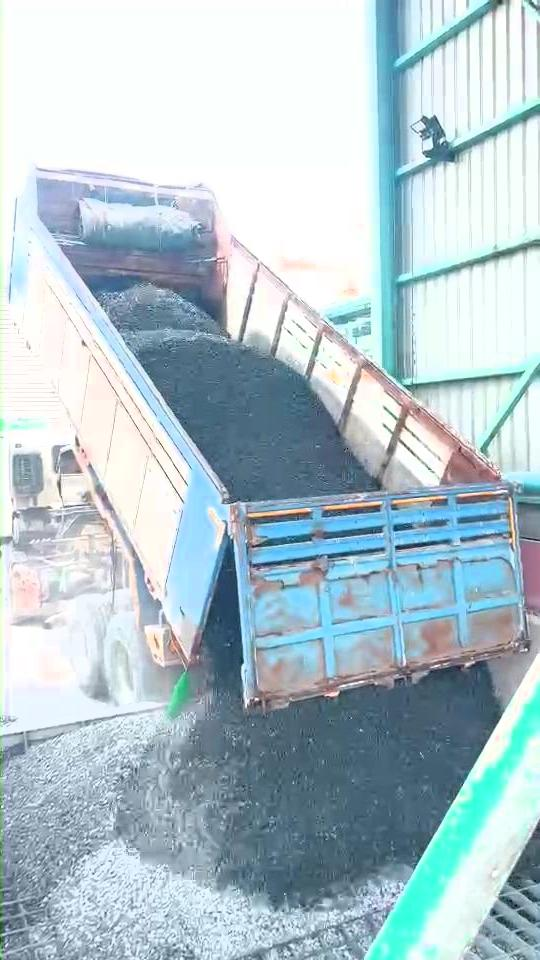gravel: (5, 554, 497, 959), (100, 284, 376, 500), (517, 823, 540, 879)
